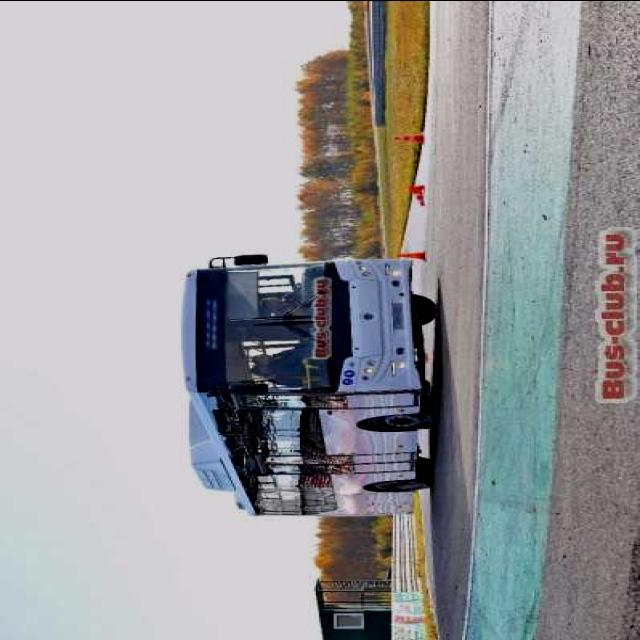bus: (170, 251, 444, 521)
